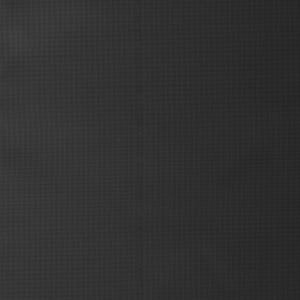Wrinkle: (214, 127, 283, 211), (182, 237, 247, 300)
